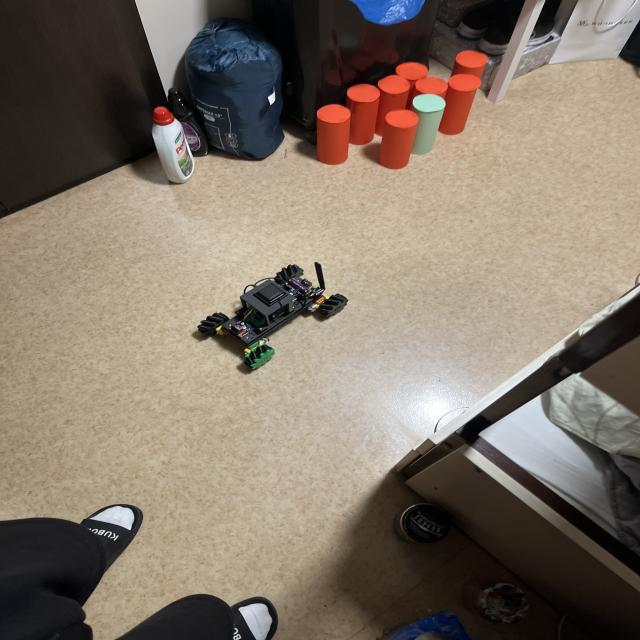robot: (198, 263, 348, 369)
